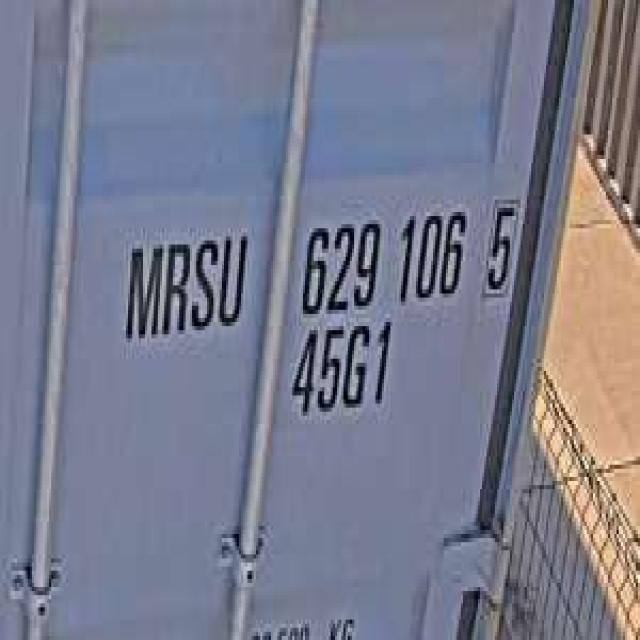dv: (480, 184, 521, 302)
owner: (117, 212, 252, 346)
serial: (294, 196, 472, 318)
size: (286, 318, 399, 428)
